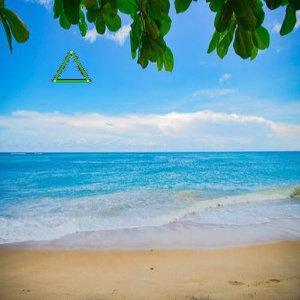triangle: (50, 48, 92, 85)
